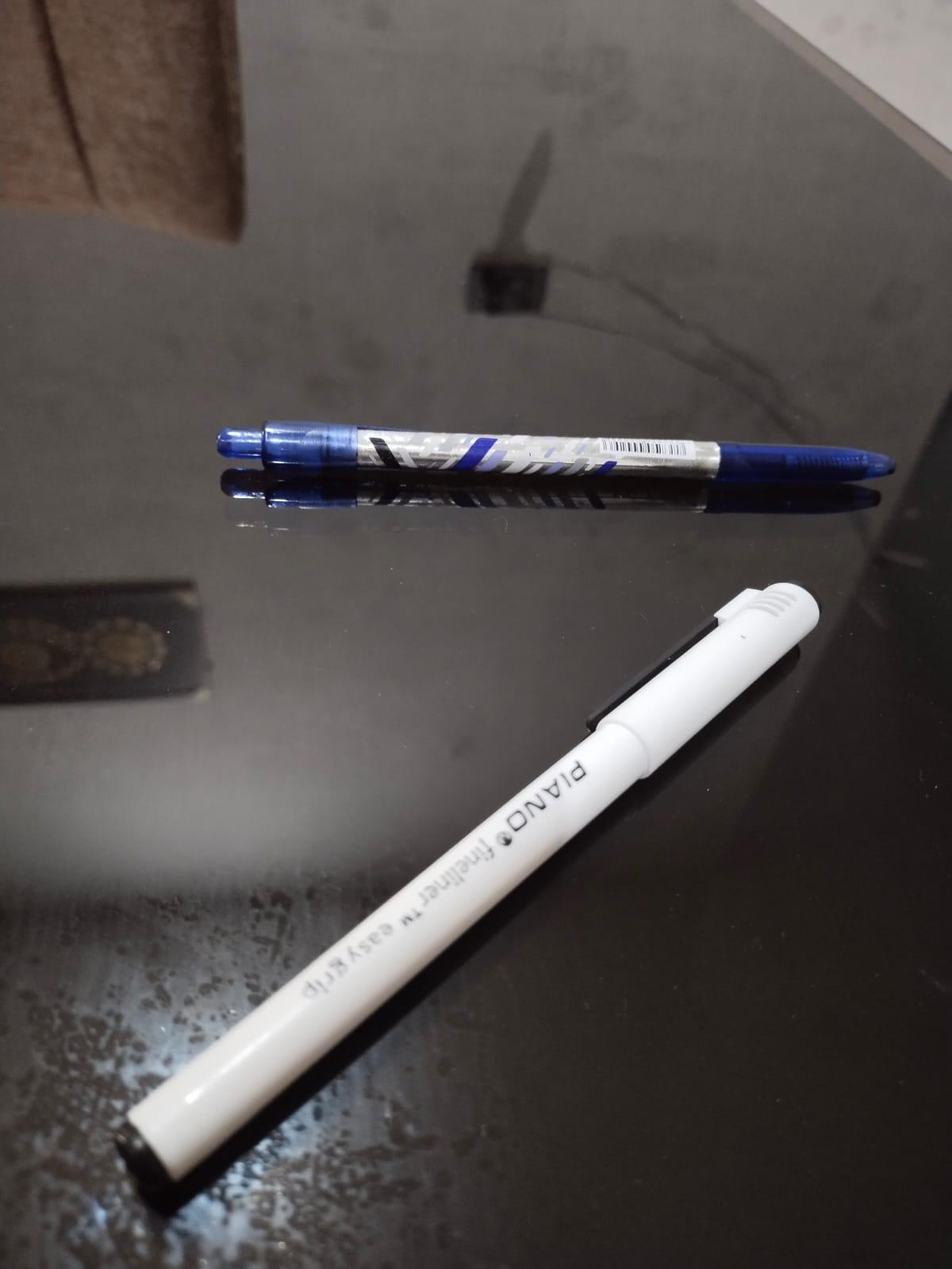pen: (117, 584, 818, 1185), (217, 421, 895, 481), (221, 468, 880, 514)
